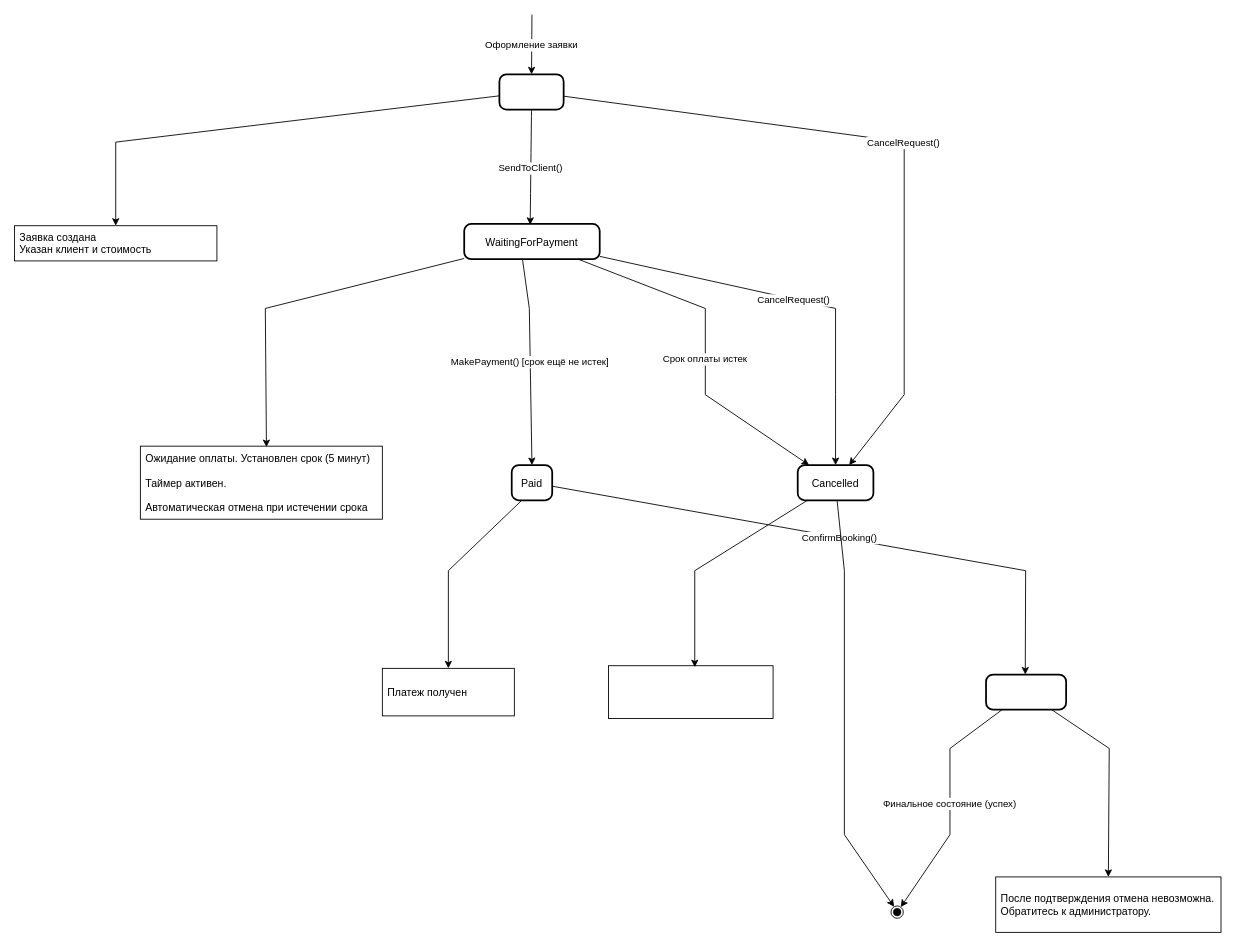
The diagram is 1236 pixels wide and 947 high, and some of its shapes have lost their labels. Here are the shapes that lost their labels. From the top down, the box of each, then its label:
(498, 73, 564, 110): Created
(608, 665, 773, 719): Финальное состояние (отмена)
(985, 673, 1067, 710): Confirmed
